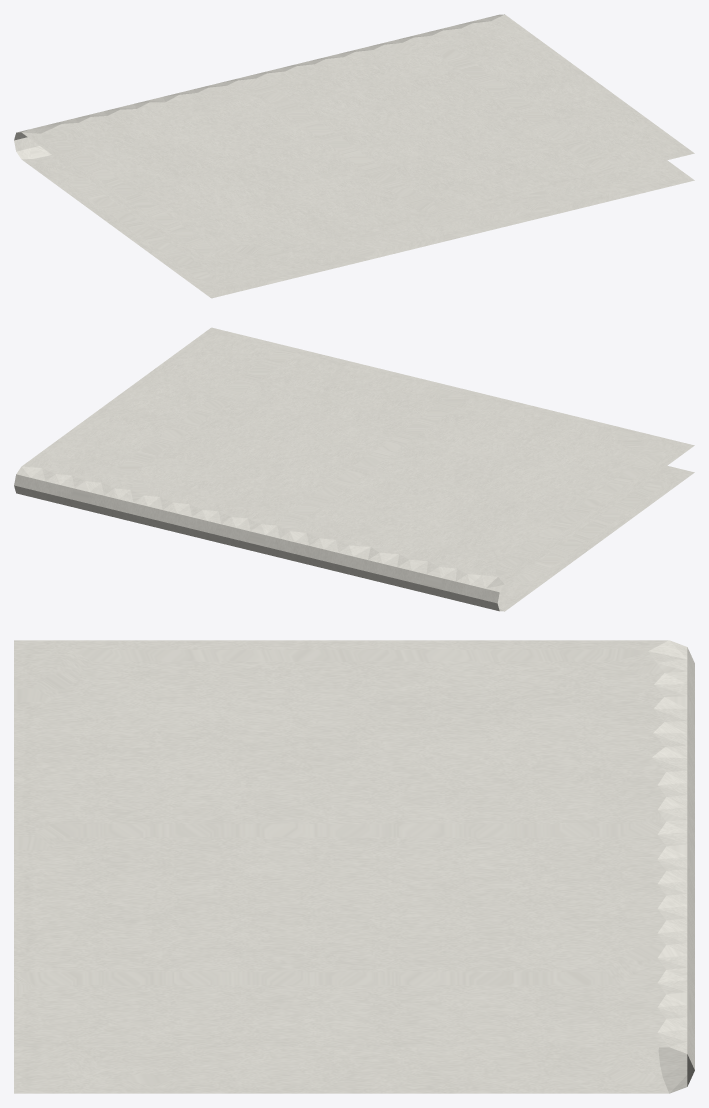
The model's file is task-10.glb.
3 views of the same model, one above another, from view 1: azimuth 30°, elevation 25°; view 2: azimuth 150°, elevation 25°; view 3: azimuth 270°, elevation 25° (orthographic). The views are drawn at different scales.
Visible parts, largest first — view 1: towel__0; view 2: towel__0; view 3: towel__0.
Part boxes in pixels (bbox=[...]): towel__0: bbox=[14, 14, 694, 298]; towel__0: bbox=[14, 327, 694, 611]; towel__0: bbox=[14, 640, 694, 1093].
Bounding box in the file's own units: 0.45 × 0.024 × 0.3182.
1 material, 1 textured.
